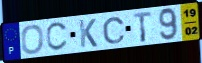9: (158, 7, 180, 42)
C: (45, 21, 70, 53), (101, 16, 127, 45)
K: (78, 18, 99, 49)
O: (20, 24, 45, 56)
T: (132, 11, 153, 44)
